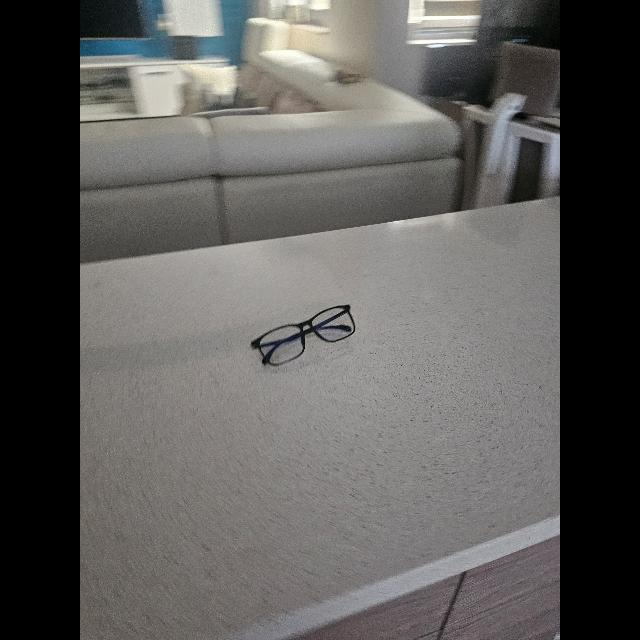glasses: (251, 304, 355, 366)
